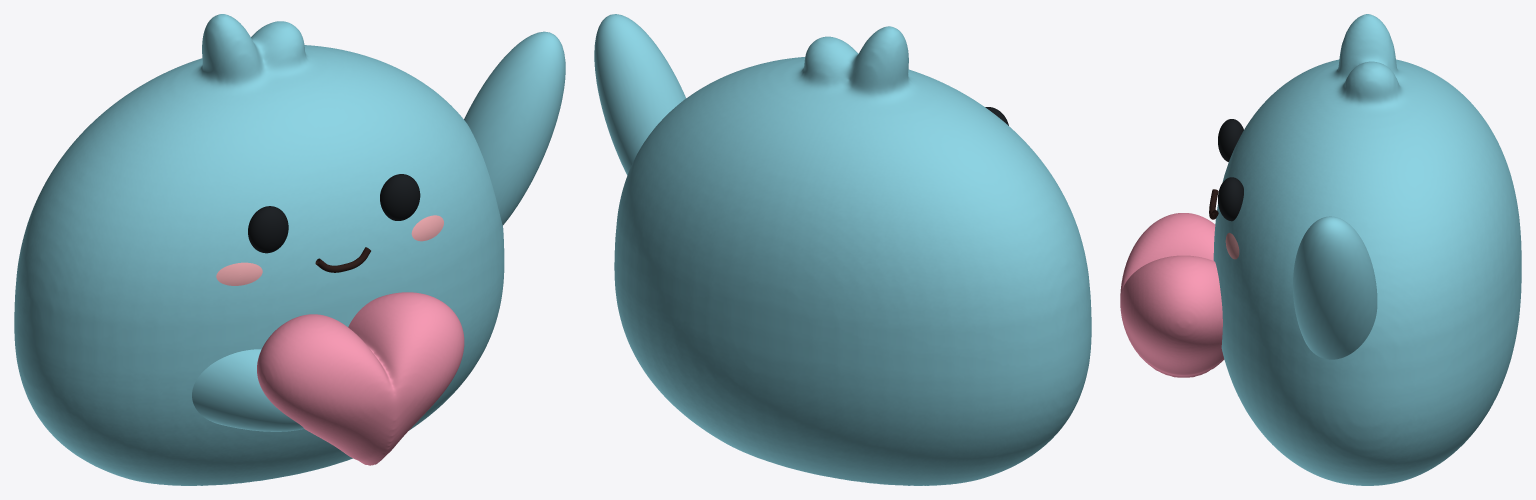
File: moflow-sauna-game.glb
3 renders of one model, left to right at view 1: azimuth 30°, elevation 25°; view 2: azimuth 150°, elevation 25°; view 3: azimuth 270°, elevation 25°, orthographic. The views are drawn at different scales.
Visible parts, largest first — view 1: Moflow · continuous body and double sprout, Moflow · puffy heart, Moflow · bead eye, Moflow · soft cheek; view 2: Moflow · continuous body and double sprout; view 3: Moflow · continuous body and double sprout, Moflow · puffy heart, Moflow · bead eye.
Part boxes in pixels (x1,y1,x2,y2): Moflow · continuous body and double sprout: (14,14,565,485); Moflow · puffy heart: (257,292,464,465); Moflow · bead eye: (248,174,420,253); Moflow · soft cheek: (216,215,443,285); Moflow · continuous body and double sprout: (594,14,1091,485); Moflow · continuous body and double sprout: (1213,14,1521,485); Moflow · puffy heart: (1120,213,1224,377); Moflow · bead eye: (1218,119,1243,221).
Bounding box in the file's own units: 1.98 × 1.6 × 1.48.
